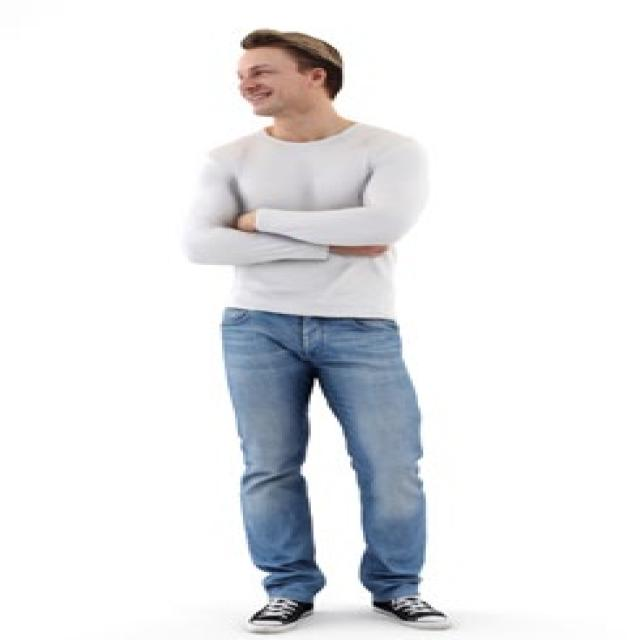standing: (175, 23, 458, 636)
